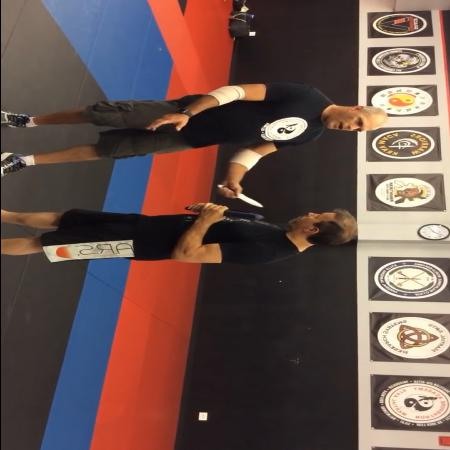long weapon: (212, 182, 268, 209)
